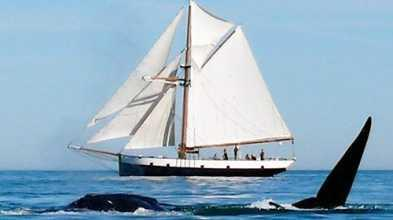fanchuan: (63, 1, 296, 178)
